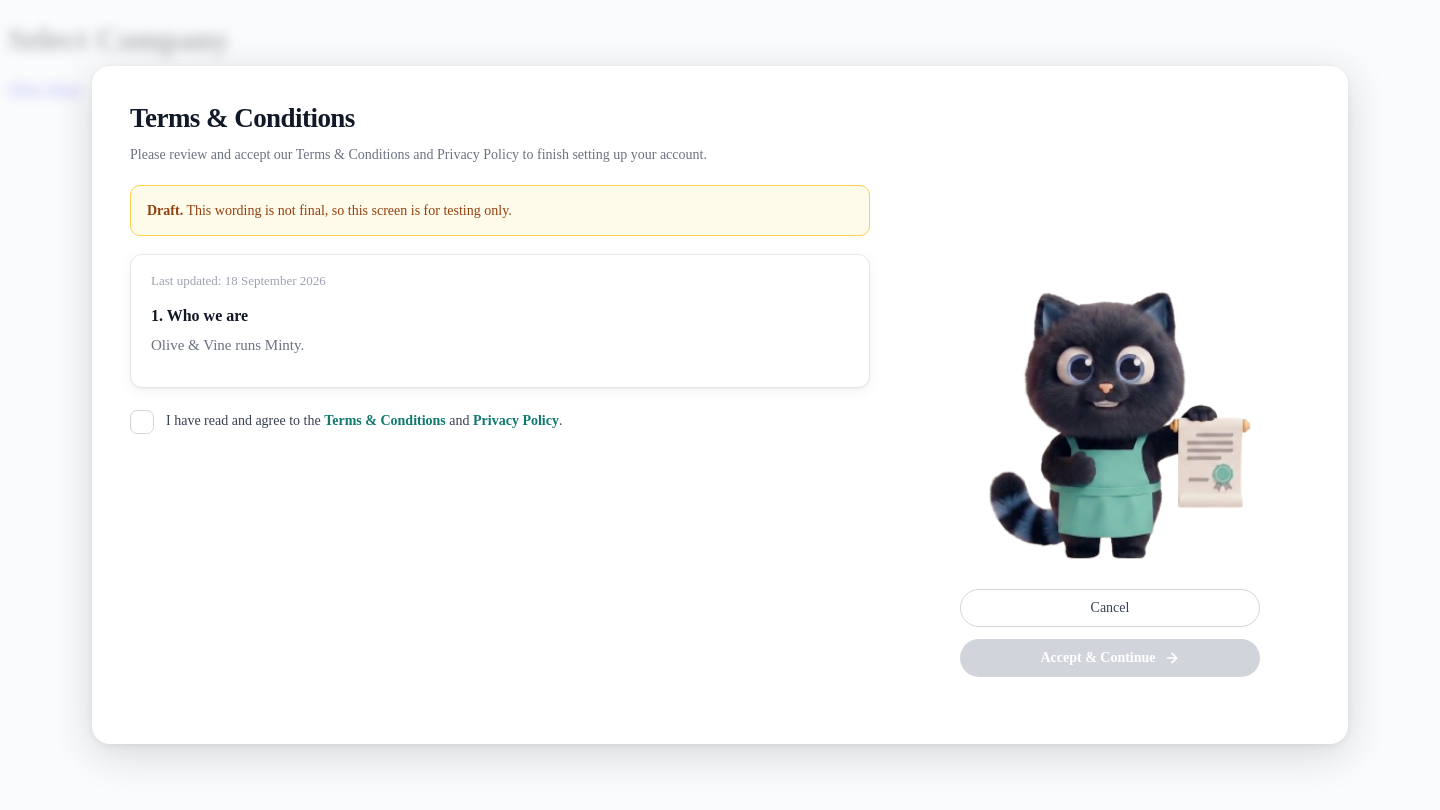
Test: TermsGate › 409 - the Terms changed while it sat open: they are read again, unticked
Click the checkbox: (142,422) [130, 410, 154, 434]
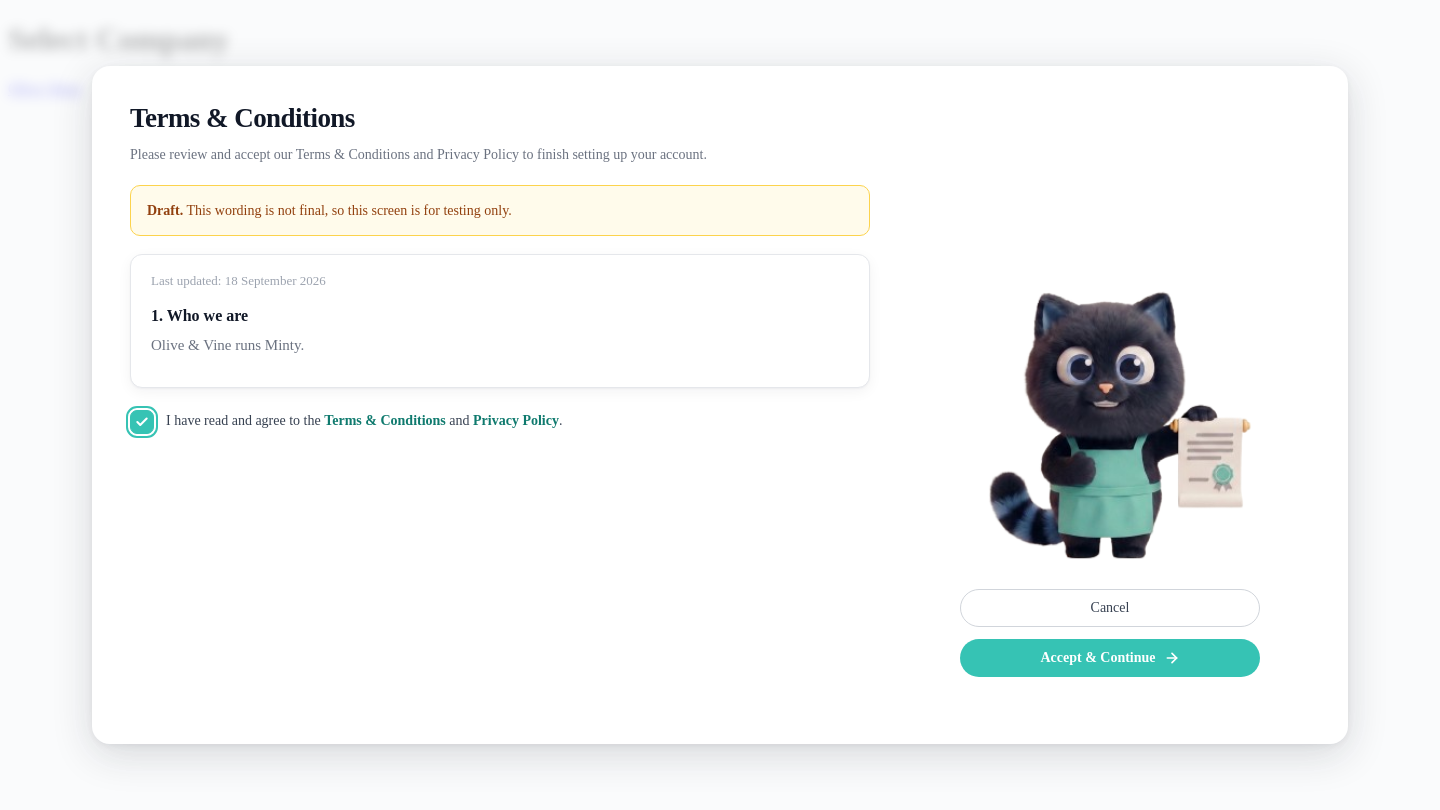
Click the button "Accept & Continue": (1110,658) [960, 639, 1260, 677]
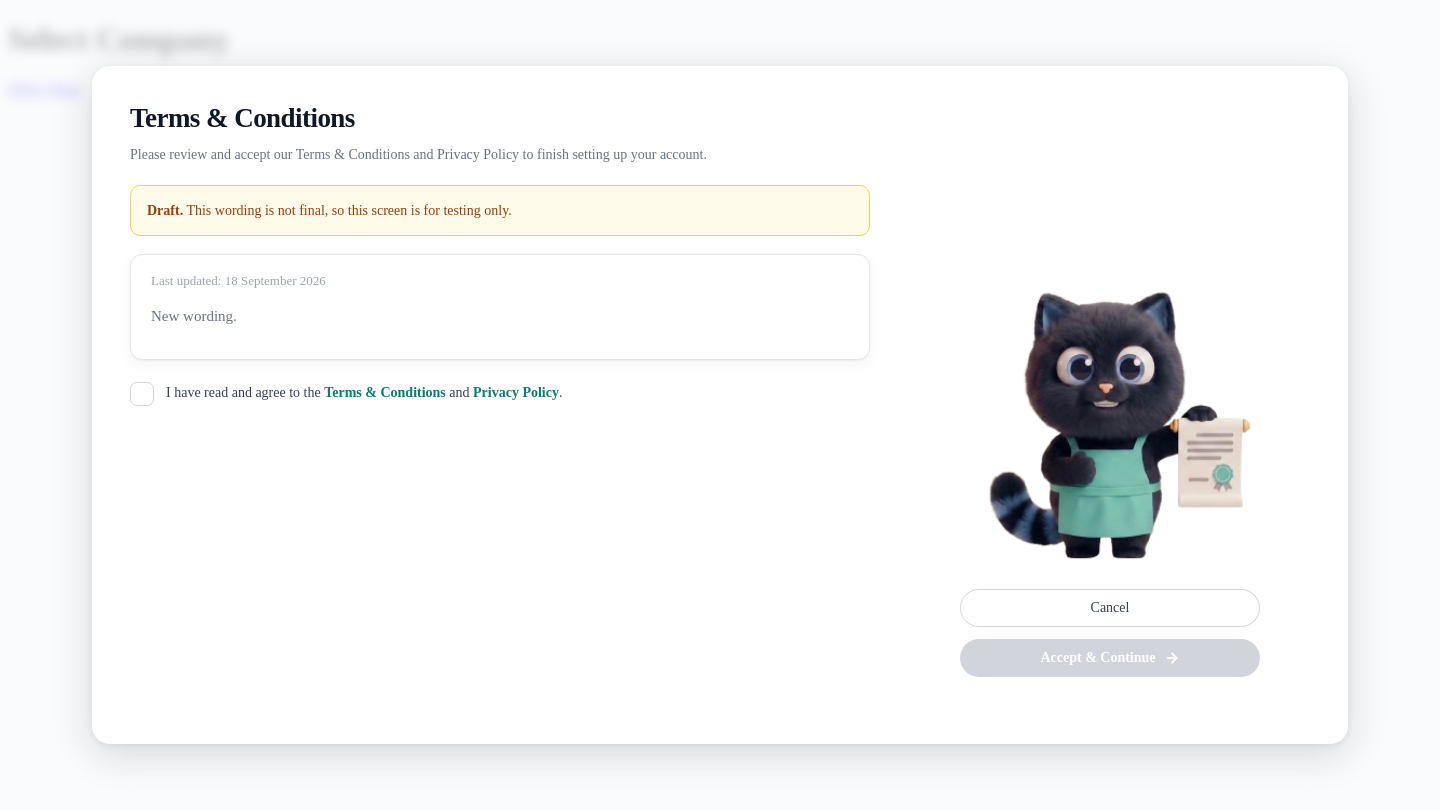
Expected: the text "New wording." is shown, [151, 308, 237, 324]
Expected: the checkbox is not checked, [130, 382, 154, 406]
